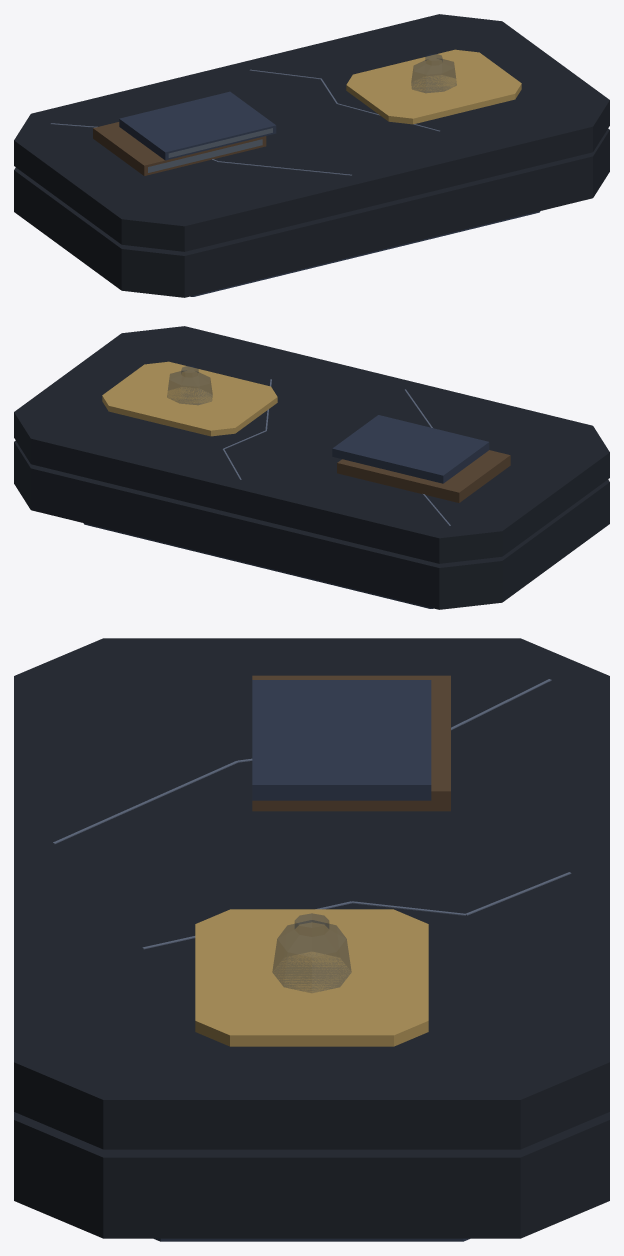
File: res_coffee_table_marble.glb
3 renders of one model, top to bottom at view 1: azimuth 30°, elevation 25°; view 2: azimuth 150°, elevation 25°; view 3: azimuth 270°, elevation 25°, orthographic. The views are drawn at different scales.
Visible parts, largest first — view 1: floating_top, brass_tray, book_binding.001, book_binding, decanter, page_edges, marble_vein; view 2: floating_top, brass_tray, book_binding.001, book_binding, decanter, marble_vein; view 3: floating_top, brass_tray, book_binding.001, book_binding, decanter, marble_vein.
Part boxes in pixels (x1,y1,x2,y2): floating_top: (14,14,609,297); brass_tray: (346,49,521,124); book_binding.001: (119,91,540,296); book_binding: (93,122,266,175); decanter: (411,54,456,92); page_edges: (148,128,272,172); marble_vein: (50,69,439,175); floating_top: (14,326,609,609); brass_tray: (102,361,277,436); book_binding.001: (83,415,489,608); book_binding: (337,450,510,502); decanter: (167,366,212,404); marble_vein: (222,379,450,525); floating_top: (14,638,609,1238); brass_tray: (195,909,428,1046); book_binding.001: (154,680,469,1241); book_binding: (252,675,450,811); decanter: (272,913,351,992); marble_vein: (52,679,571,949).
Bounding box in the file's own units: 2.2 × 0.55 × 1.2.
